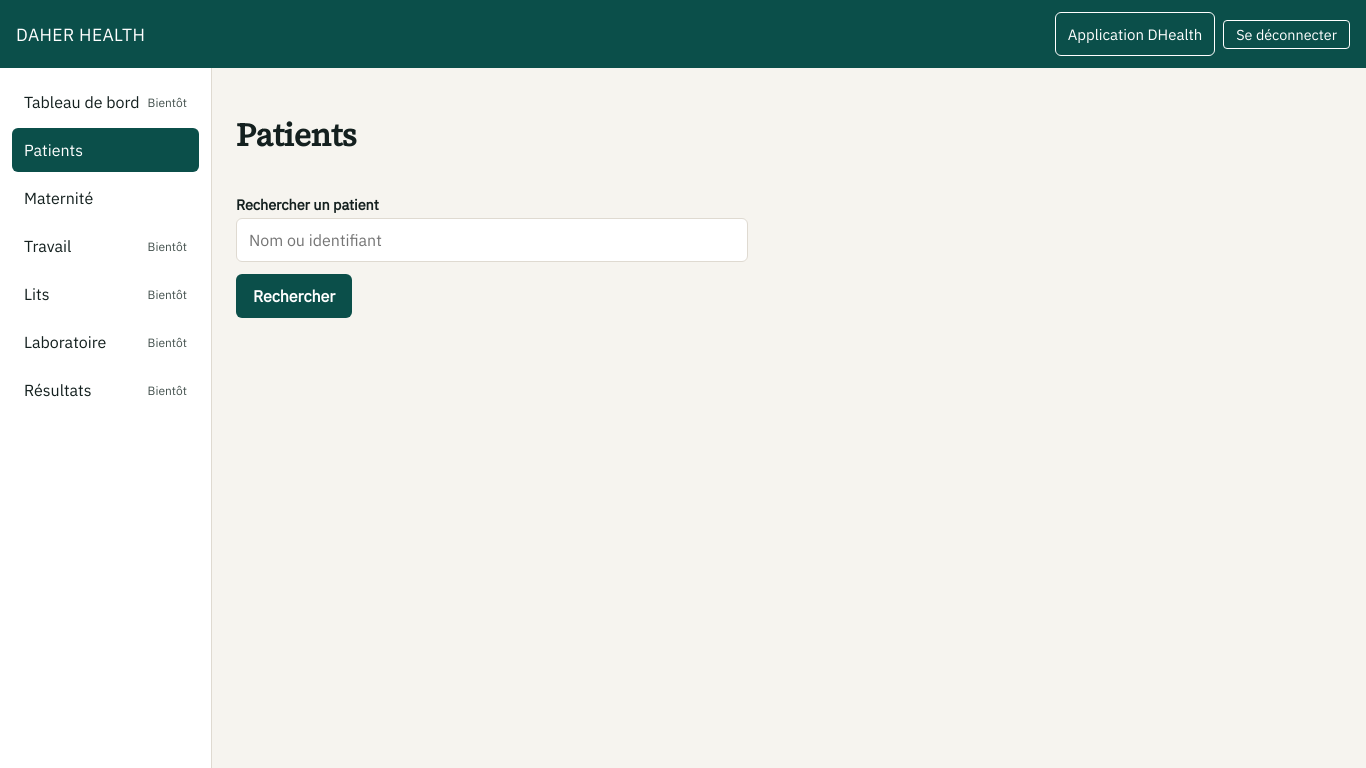
Test: accessibility › a populated search-results screen has no detectable axe violations
Type "Test" into the search field labelled "Rechercher un patient". click: (492, 240)
box: [236,218,748,262]
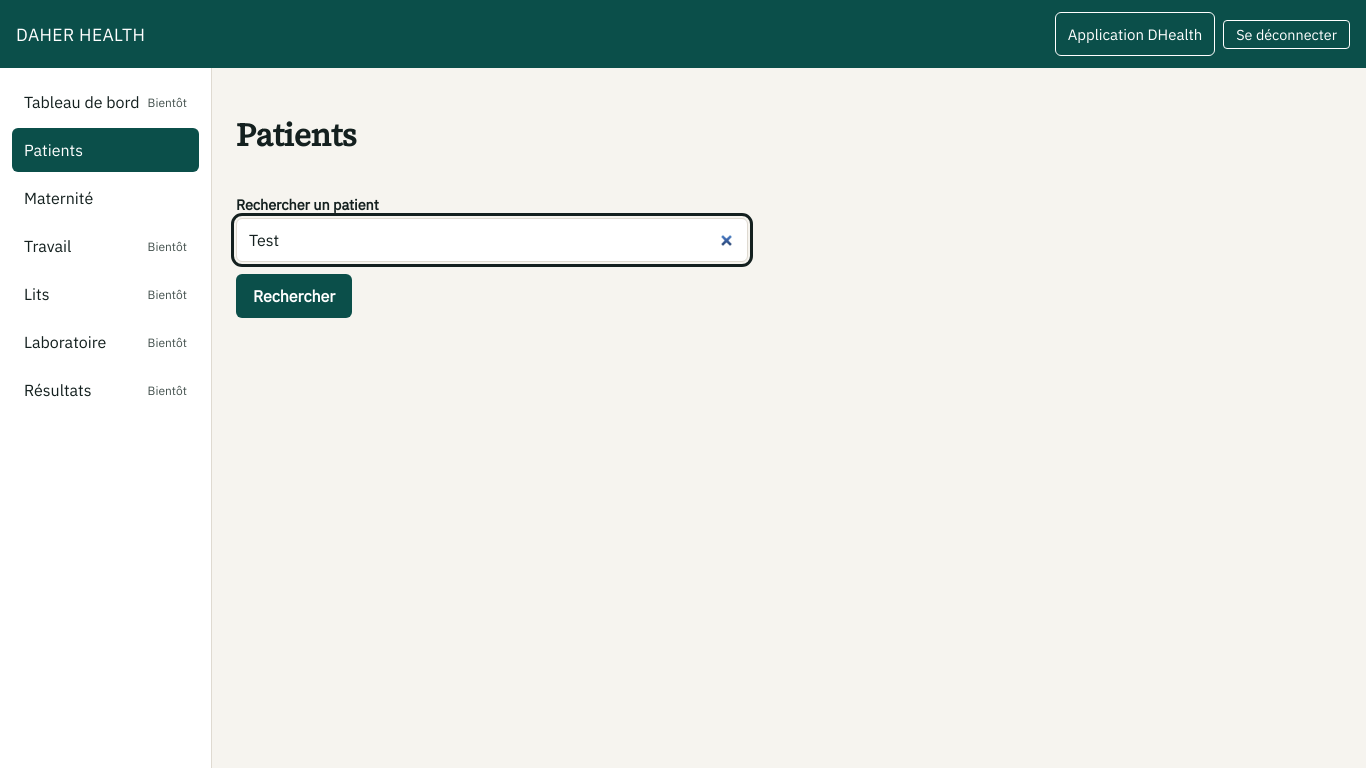
Click the button "Rechercher". click: (294, 296)
box: [236,274,352,318]
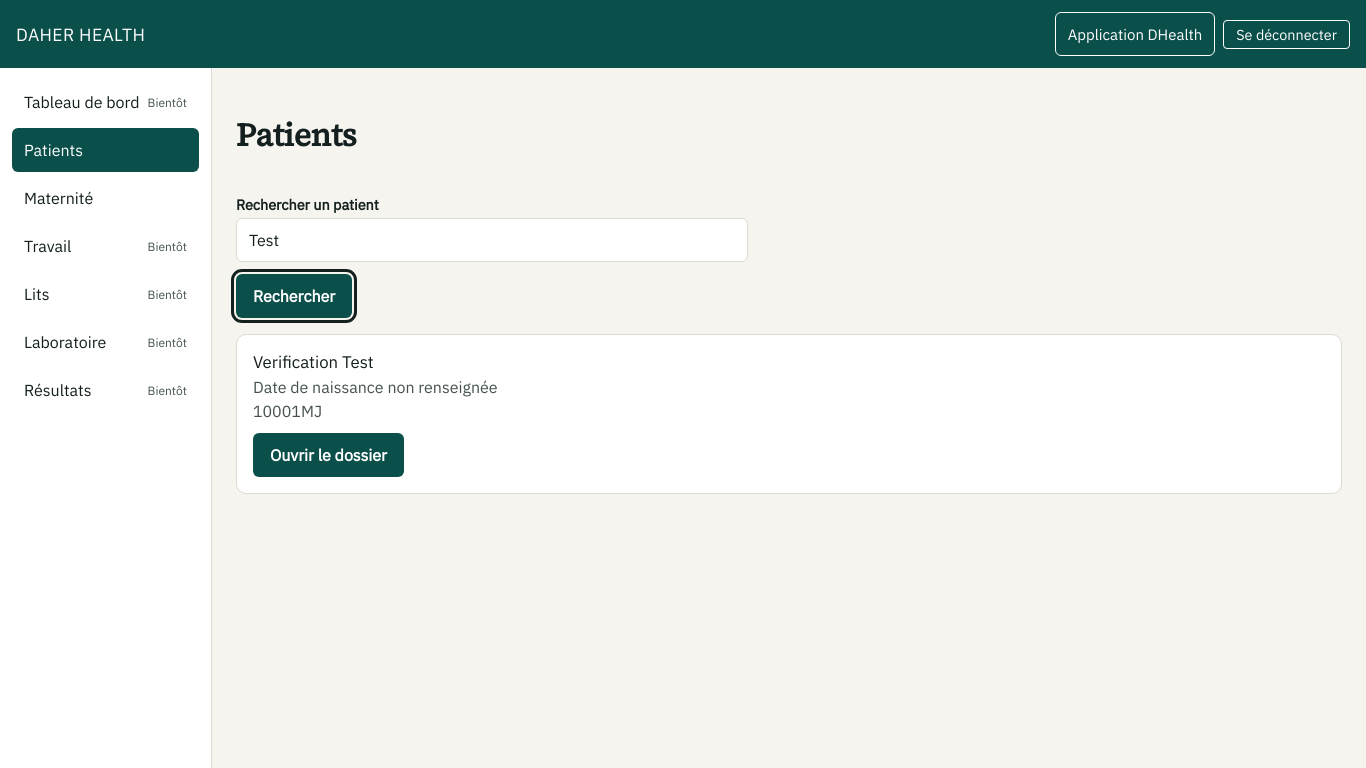
Now the text "Verification Test" is shown, box [253,351,374,373]
